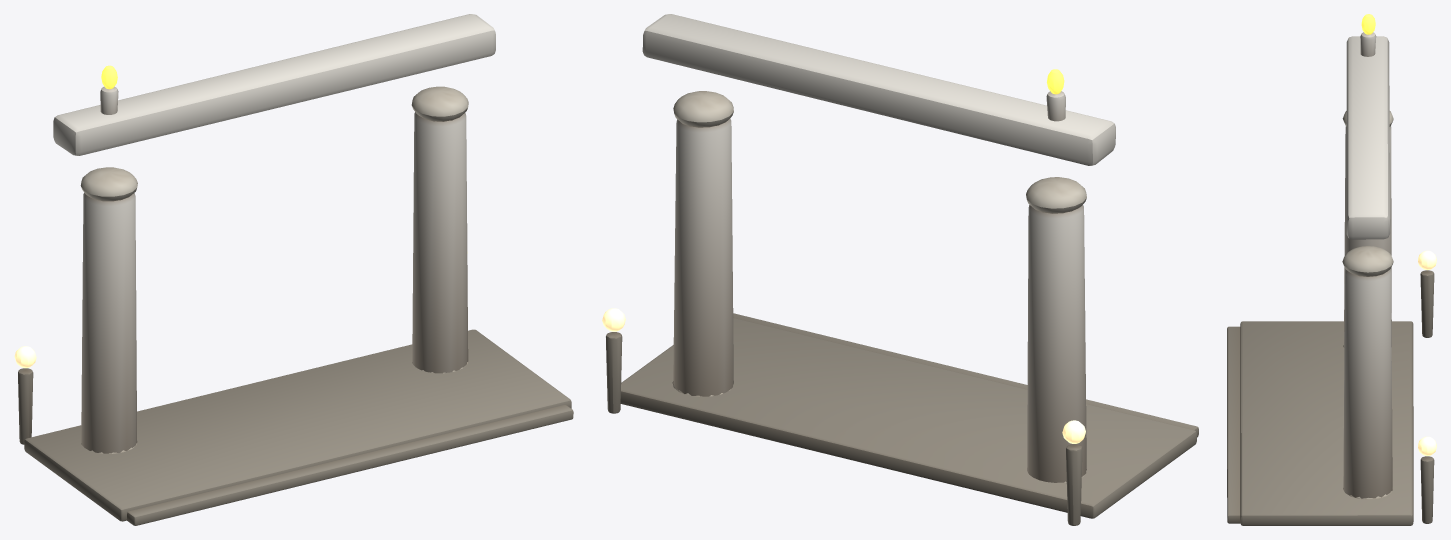
3 renders of one model, left to right at view 1: azimuth 30°, elevation 25°; view 2: azimuth 150°, elevation 25°; view 3: azimuth 270°, elevation 25°, orthographic. The views are drawn at different scales.
Visible parts, largest first — view 1: gate_62a8242f; view 2: gate_62a8242f; view 3: gate_62a8242f.
Boxes of the visible parts, box(x1,y1,x2,y2) form: gate_62a8242f: box(14, 14, 573, 525); gate_62a8242f: box(602, 14, 1198, 525); gate_62a8242f: box(1227, 14, 1436, 525).
Bounding box in the file's own units: 5.6 × 4.61 × 2.55.
